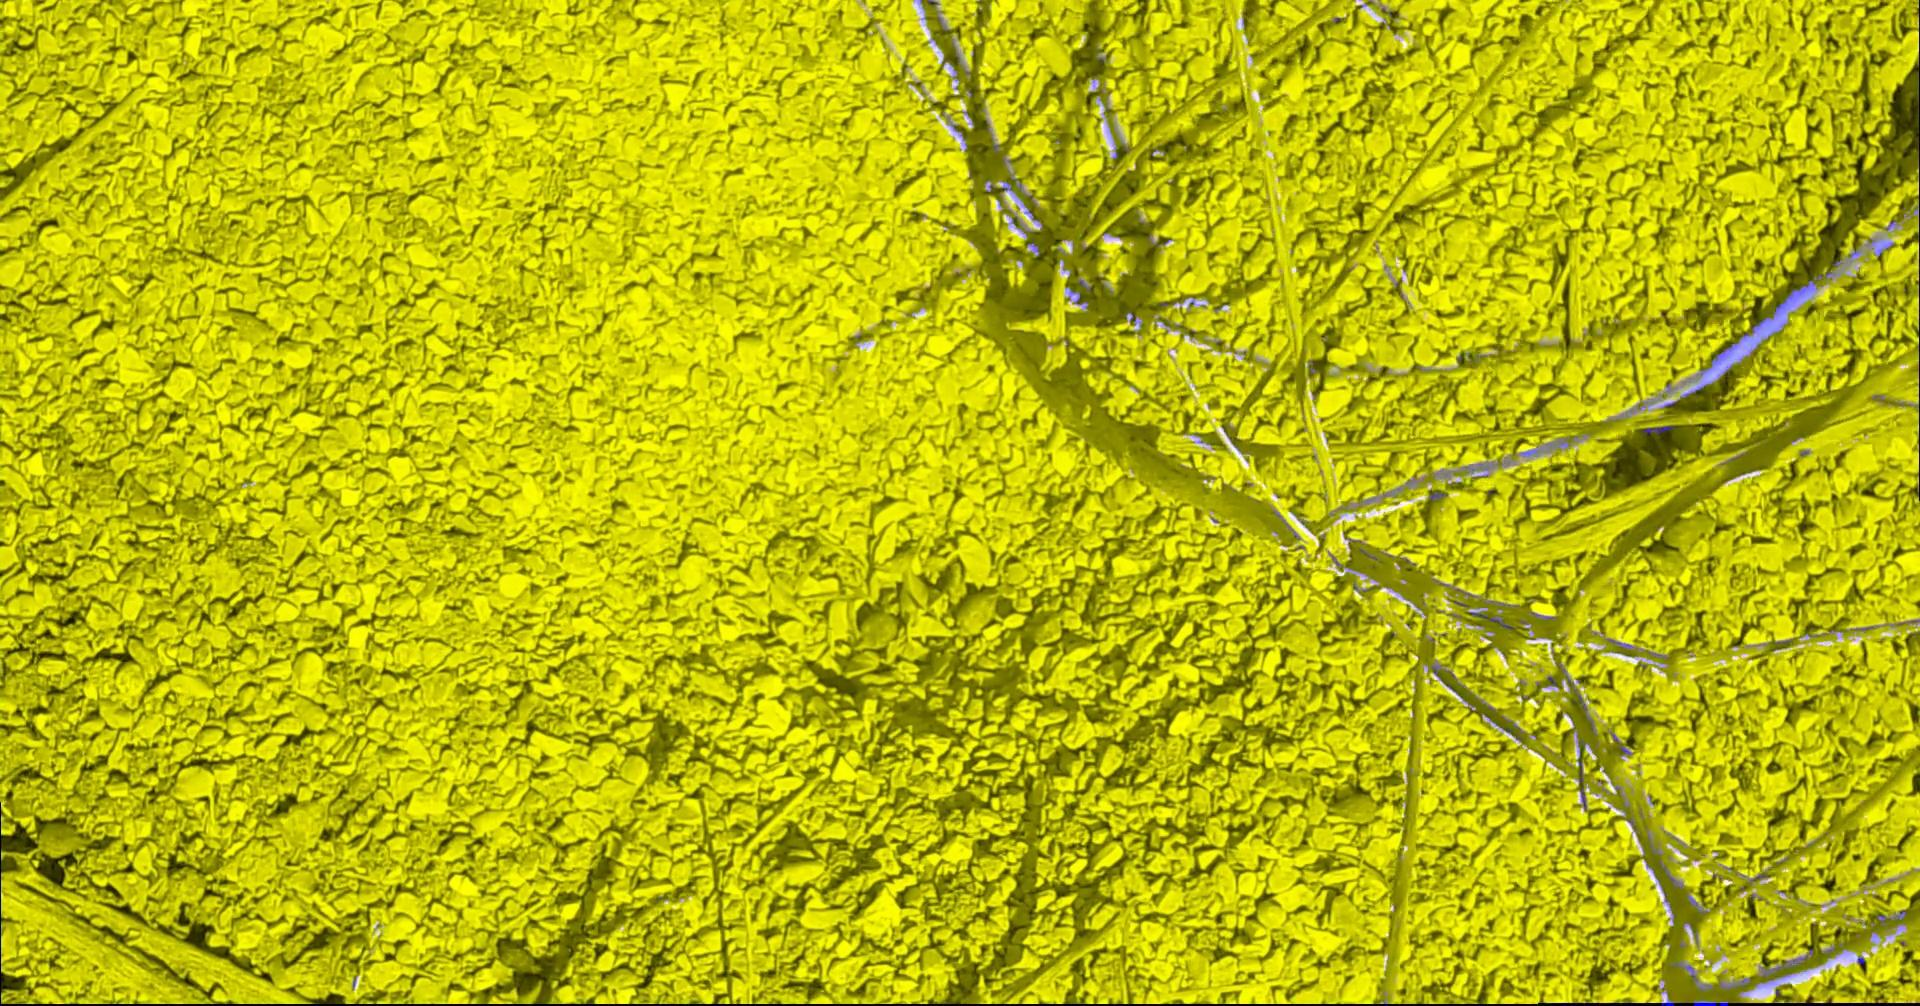ant: (1470, 612, 1511, 629), (1577, 741, 1585, 809), (1637, 426, 1674, 433), (1691, 1002, 1728, 1005)
